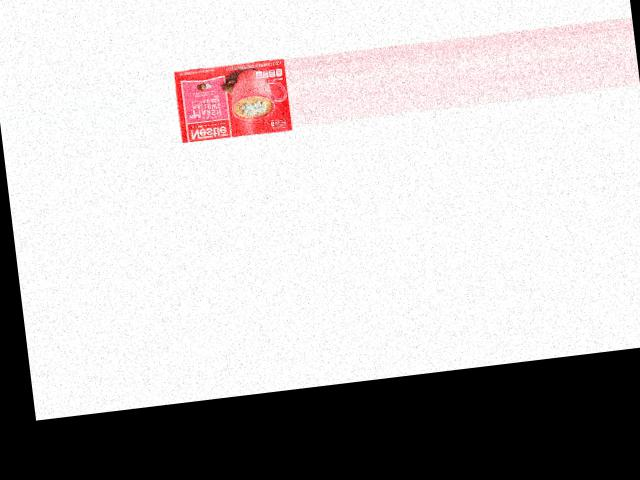chocolate: (175, 54, 293, 140)
